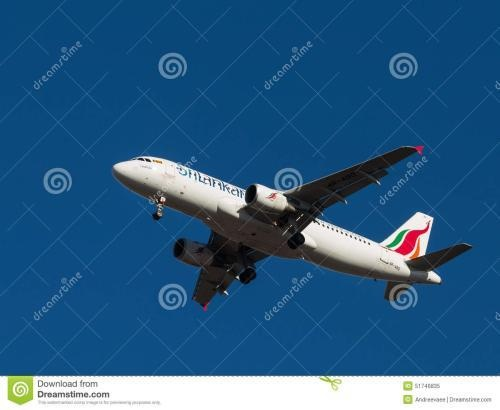airplane: (103, 144, 481, 310)
